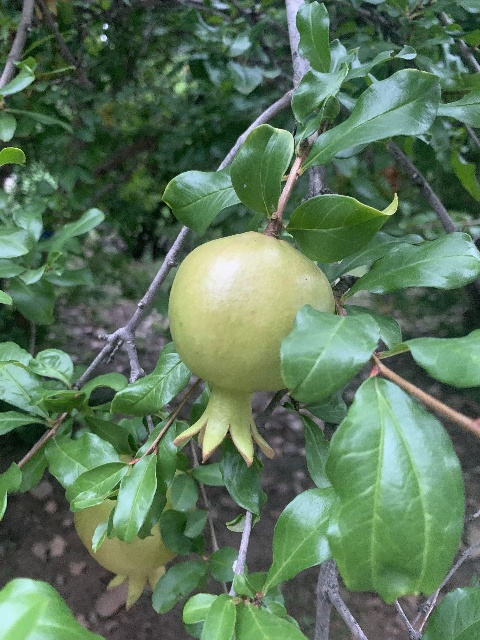mid-growth: (166, 230, 334, 467), (75, 455, 196, 612)
